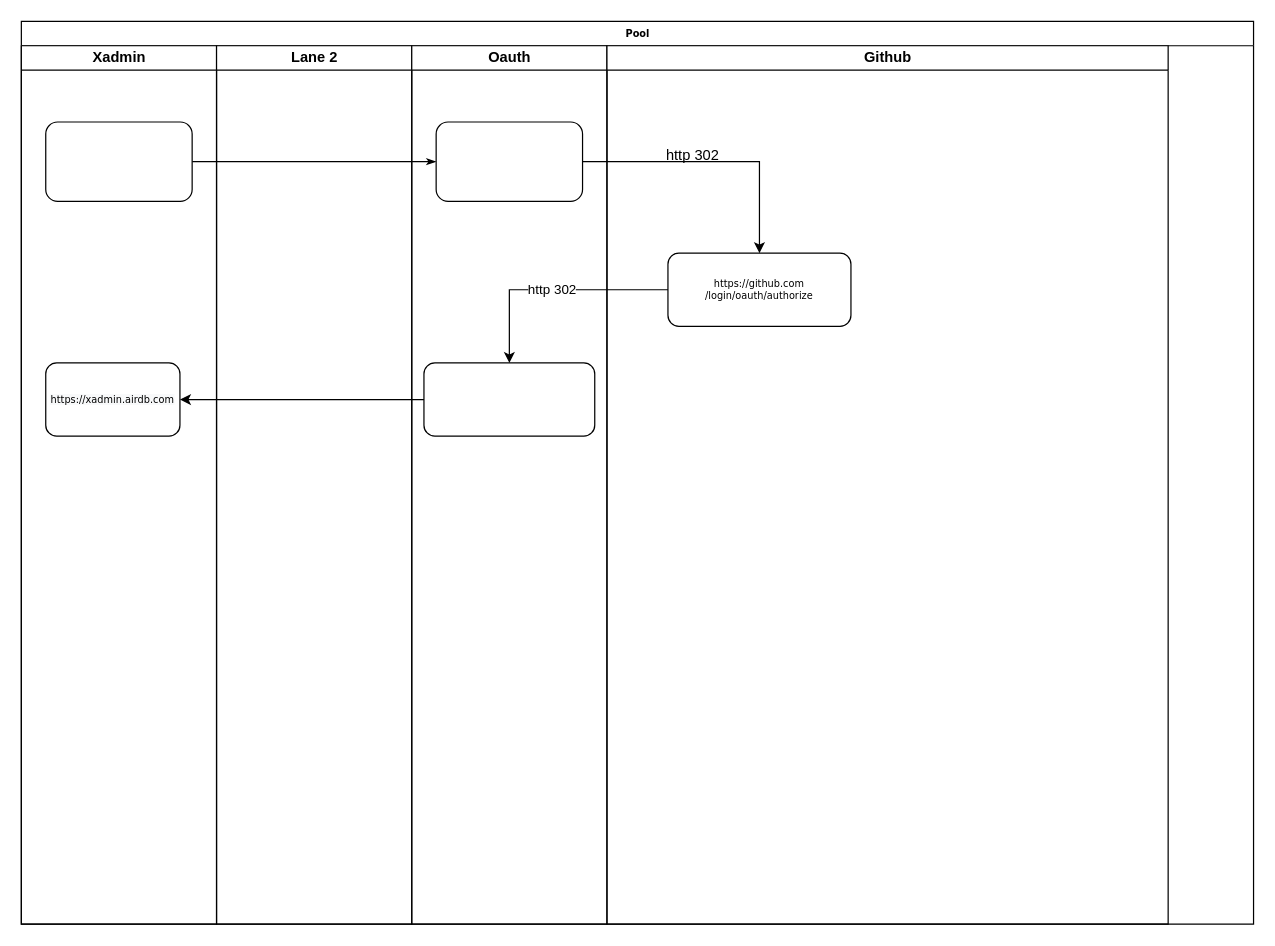
Some shapes in this 1275 by 946 pixel diagram are drawn without their labels. Here are the shapes that lost their labels. From the top down, the box of each, then its label:
(45, 121, 192, 201): https://xadmin.airdb.com /login
(435, 121, 583, 201): https://bbhj.airdb.com /release/oauth2/github
(423, 362, 595, 436): https://bbhj.airdb.com /release/oauth2/github/callback
